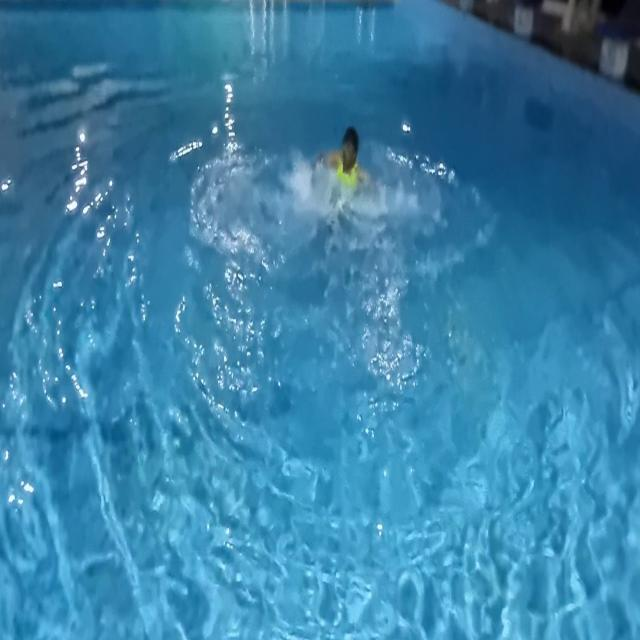Swimming: (282, 101, 426, 266)
